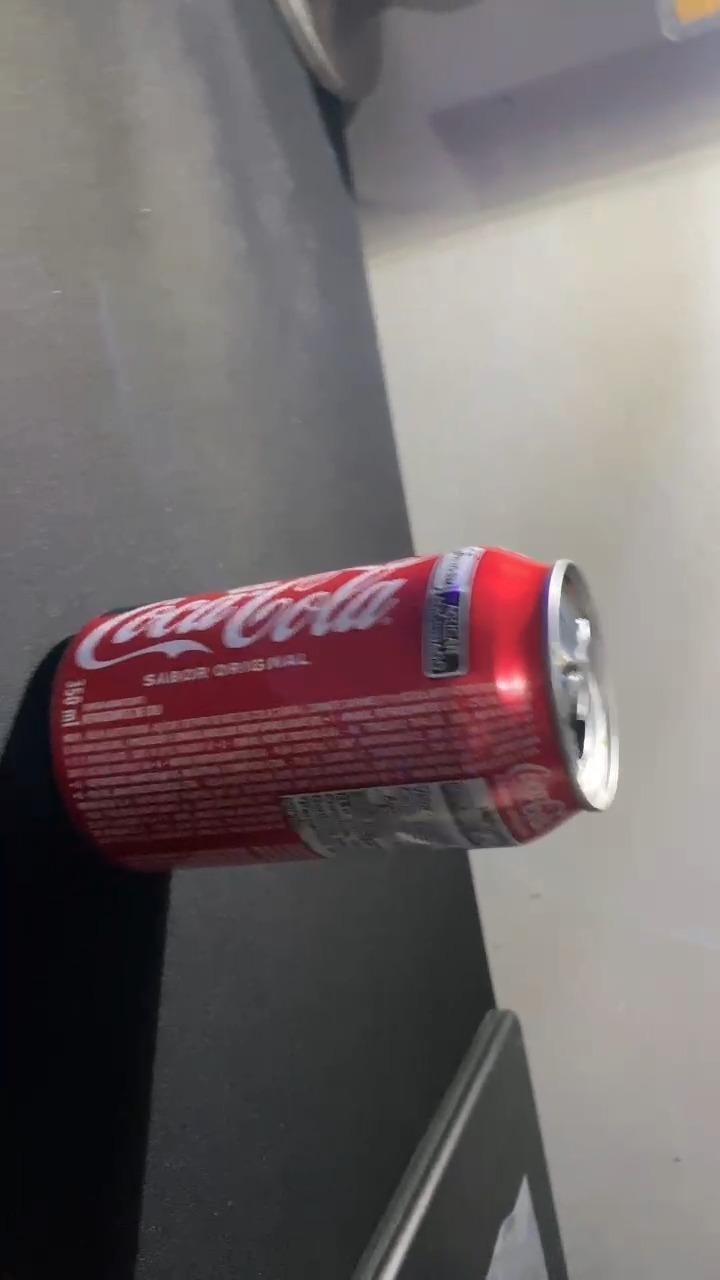coke: (43, 548, 629, 870)
